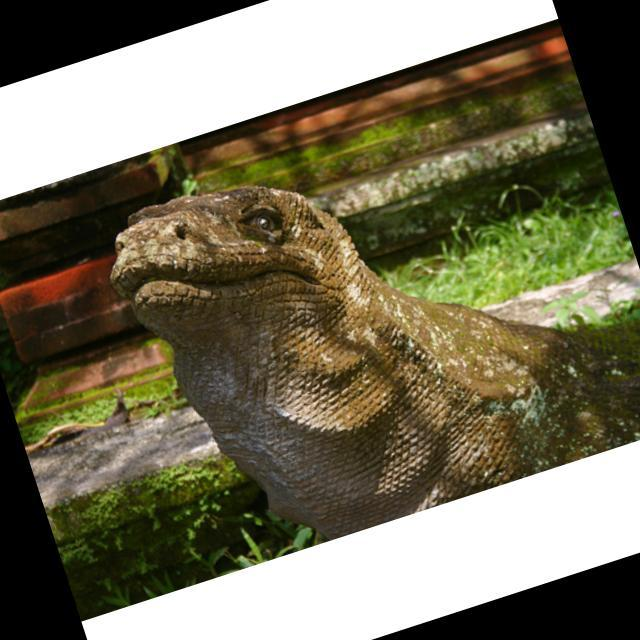KomodoDragon: (93, 66, 640, 577)
